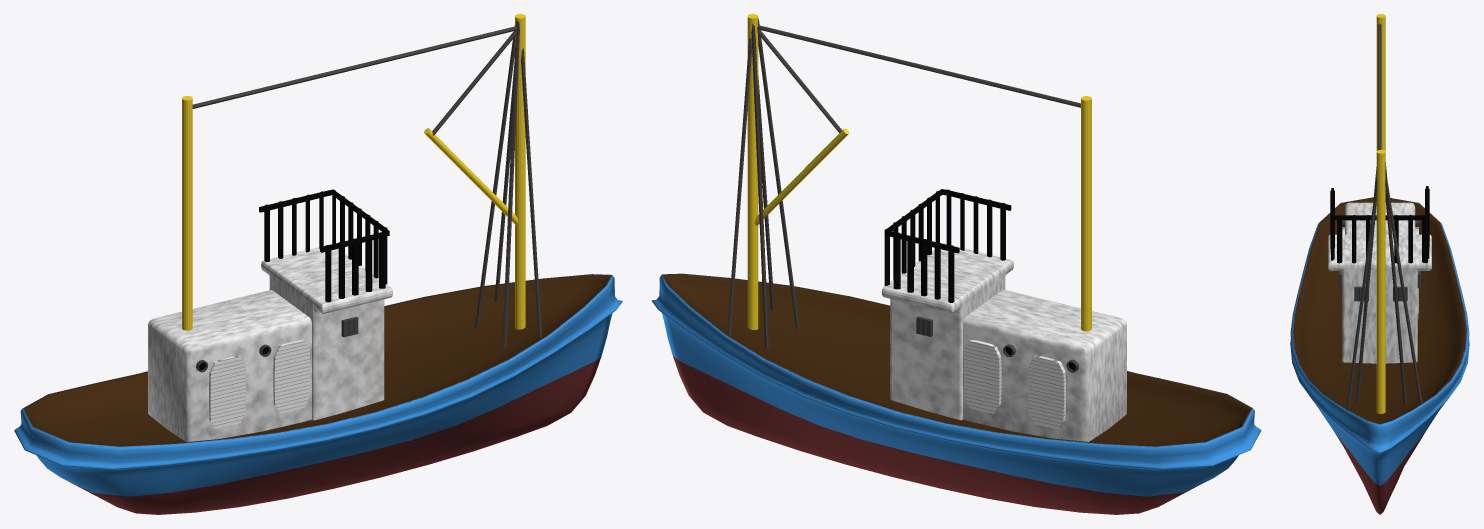
Rendered from objekts1-boat1.glb.
3 views of the same model, side by side, from view 1: azimuth 30°, elevation 25°; view 2: azimuth 150°, elevation 25°; view 3: azimuth 270°, elevation 25° (orthographic). The views are drawn at different scales.
Visible parts, largest first — view 1: Cylinder.007; view 2: Cylinder.007; view 3: Cylinder.007.
Part boxes in pixels (x1,y1,x2,y2): Cylinder.007: (14,14,622,514); Cylinder.007: (651,14,1261,514); Cylinder.007: (1290,14,1469,514).
Bounding box in the file's own units: 11.3 × 7.66 × 3.5.
Materials: 1 (1 with a texture image).
